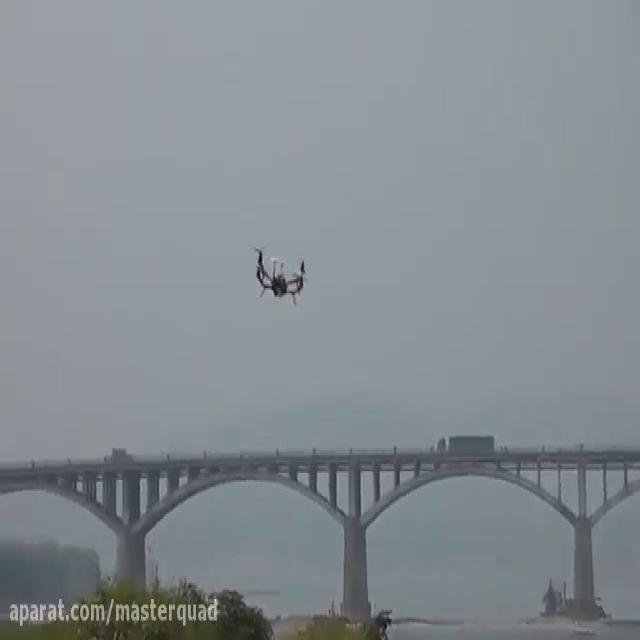drone: (248, 238, 311, 304)
